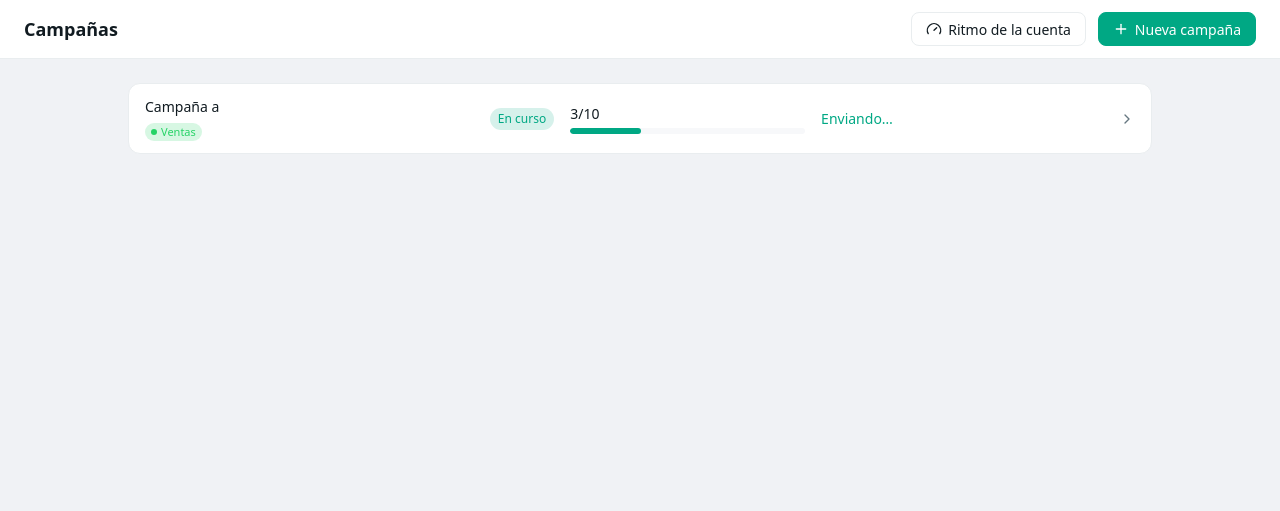
Test: detalle de campaña › las pestañas piden la cola por estado
Later steps or results of the test are not shown.
Click the button with test id "campaign-row": [182, 106] box left=128, top=83, right=1152, bottom=154
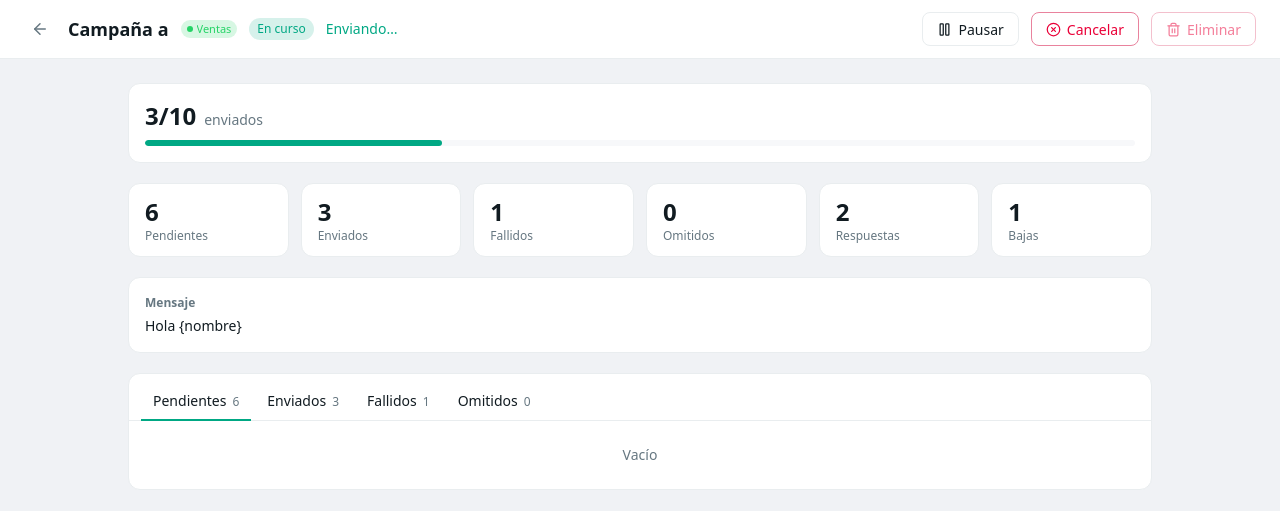
Expected: the text "3/10" is shown, left=145, top=100, right=196, bottom=132
Click the tab "Enviados3": [303, 402] box left=255, top=382, right=351, bottom=421
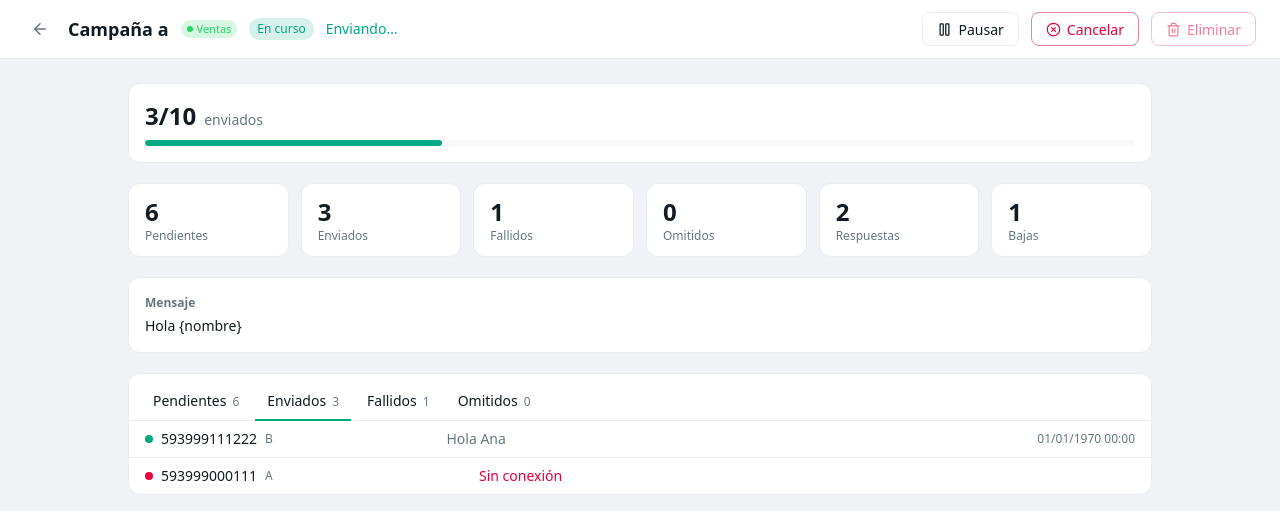
Expected: the number of list items with test id "queue-item" is 2, left=129, top=421, right=1151, bottom=458; left=145, top=466, right=562, bottom=485
Expected: the text "593999111222" is shown, left=161, top=429, right=257, bottom=449
Expected: the text "Sin conexión" is shown, left=479, top=466, right=562, bottom=485
